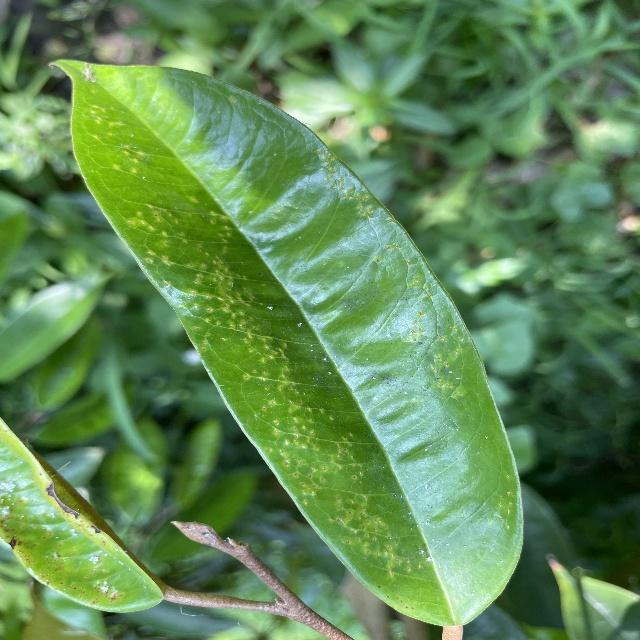Leaf Spot: (42, 52, 527, 629)
